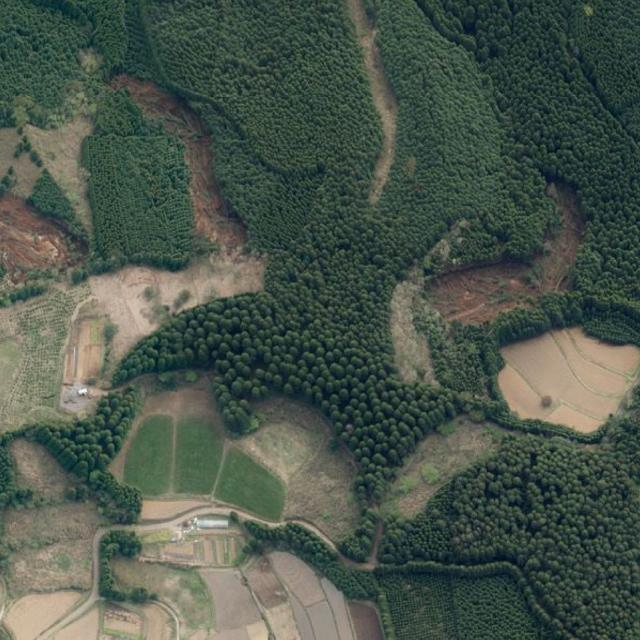landslide: (108, 70, 248, 260), (427, 181, 586, 325), (347, 0, 398, 207), (0, 192, 87, 268), (172, 260, 265, 312)
